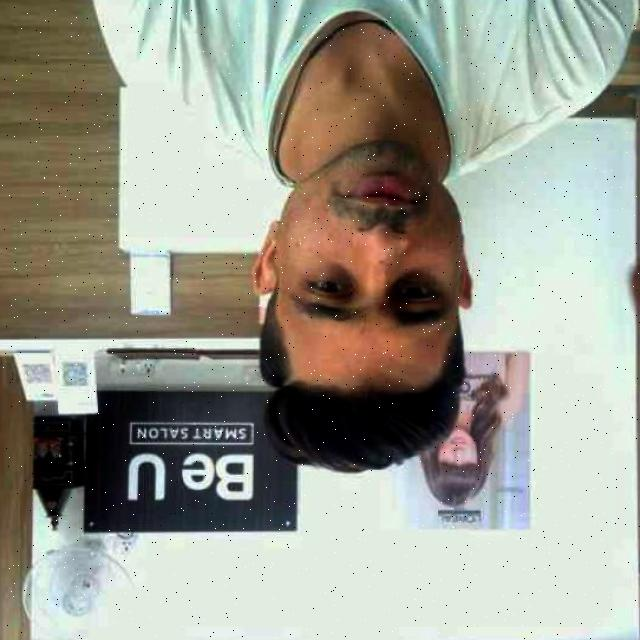puffy_eyes: (389, 272, 438, 291), (310, 265, 352, 287)
